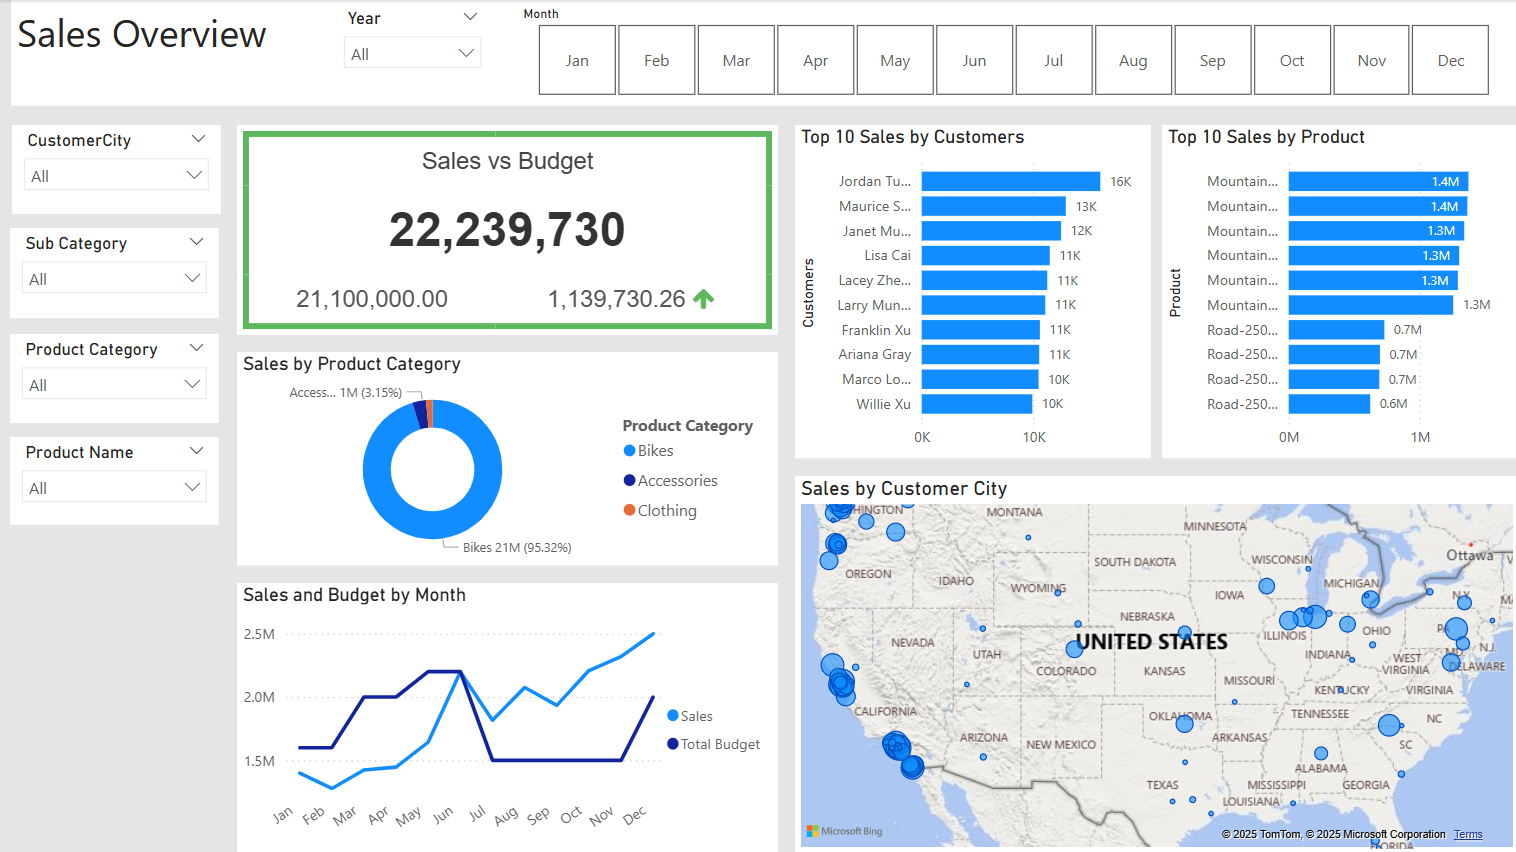

The page's visual inventory and layout, read from the dashboard file:
{"tool":"powerbi","page":{"name":"Sales Overview","canvas":[1280,720],"ordinal":0},"visuals":[{"type":"textbox","box":[9.4,0,1269.9,88.8],"z":0},{"type":"slicer","fields":{"Values":["DIM_Customer.CustomerCity"]},"box":[10,105,176.2,75],"z":1000},{"type":"slicer","fields":{"Values":["DIM_Product.Sub Category"]},"box":[8.8,192.5,176.2,76.2],"z":2000},{"type":"slicer","fields":{"Values":["DIM_Product.Product Category"]},"box":[8.8,281.2,176.2,75],"z":3000},{"type":"slicer","fields":{"Values":["DIM_Product.ProductName"]},"box":[8.8,368.8,176.2,73.8],"z":4000},{"type":"slicer","fields":{"Values":["DIM_Calendar.Year"]},"box":[280,2.9,135.7,84.3],"z":5000},{"type":"slicer","fields":{"Values":["DIM_Calendar.MonthShort"]},"box":[428.6,0,851.4,87.1],"z":6000},{"type":"BBED0A4D4D8D44CE93CF2DAFADEE466C","fields":{"actual":["FACT_InternetSales.Sales"],"target1":["Key Measures.Total Budget"],"target2":["Key Measures.Sales - Budget"]},"box":[200,105.7,455.7,177.1],"z":7000},{"type":"donutChart","fields":{"Category":["DIM_Product.Product Category"],"Y":["Key Measures.Sales"]},"box":[200,297.1,455.7,180],"z":8000},{"type":"lineChart","title":"Sales and Budget by Month","fields":{"Y":["Key Measures.Sales","Key Measures.Total Budget"],"Category":["DIM_Calendar.MonthShort"]},"box":[200,491.4,455.7,228.6],"z":9000},{"type":"barChart","title":"Top 10 Sales by Customers","fields":{"Y":["Key Measures.Sales"],"Category":["DIM_Customer.FullName"]},"box":[670,105.7,300,281.4],"z":10000},{"type":"barChart","title":"Top 10 Sales by Product","fields":{"Y":["Key Measures.Sales"],"Category":["DIM_Product.ProductName"]},"box":[980,105.7,300,281.4],"z":11000},{"type":"map","title":"Sales by Customer City","fields":{"Category":["DIM_Customer.CustomerCity"],"Size":["Key Measures.Sales"]},"box":[670,401.4,610,318.6],"z":11001}]}

Visuals, with their boxes in screenshot pixels (x1, y1, x2, y2), scaled from the page's 1280x720 canvas onto the 1516x852 screenshot:
textbox: [11, 0, 1515, 105]
slicer - DIM_Customer.CustomerCity: [12, 124, 221, 213]
slicer - DIM_Product.Sub Category: [10, 228, 219, 318]
slicer - DIM_Product.Product Category: [10, 333, 219, 422]
slicer - DIM_Product.ProductName: [10, 436, 219, 524]
slicer - DIM_Calendar.Year: [332, 3, 492, 103]
slicer - DIM_Calendar.MonthShort: [508, 0, 1515, 103]
BBED0A4D4D8D44CE93CF2DAFADEE466C - FACT_InternetSales.Sales x Key Measures.Total Budget: [237, 125, 777, 335]
donutChart - DIM_Product.Product Category x Key Measures.Sales: [237, 352, 777, 565]
"Sales and Budget by Month" lineChart: [237, 581, 777, 851]
"Top 10 Sales by Customers" barChart: [794, 125, 1149, 458]
"Top 10 Sales by Product" barChart: [1161, 125, 1515, 458]
"Sales by Customer City" map: [794, 475, 1515, 851]
